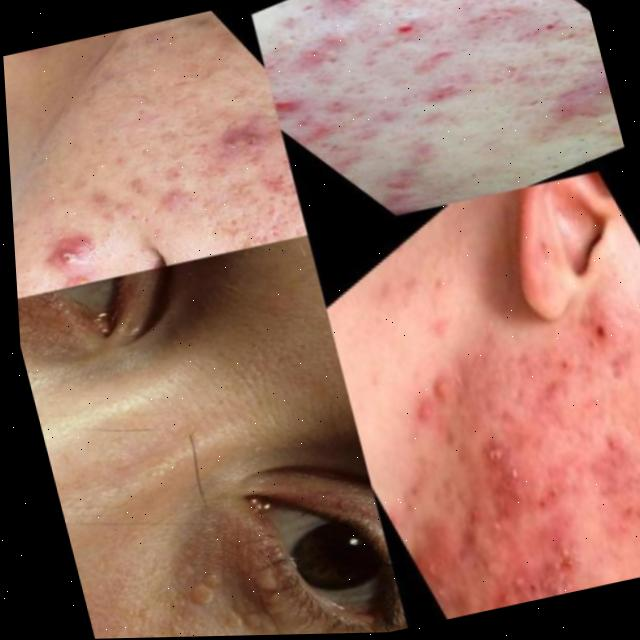Acne: (372, 321, 640, 622), (33, 55, 304, 295), (301, 0, 571, 213), (180, 560, 255, 637)
